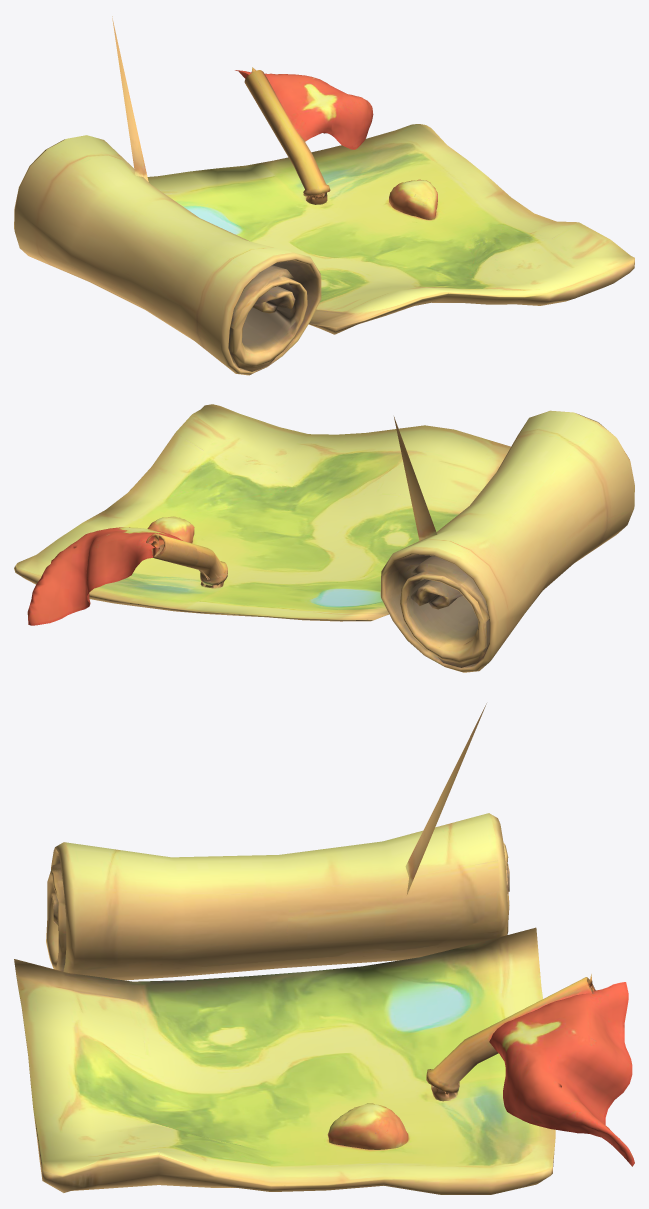
The model's file is selected.fbx.
3 renders of one model, top to bottom at view 1: azimuth 30°, elevation 25°; view 2: azimuth 150°, elevation 25°; view 3: azimuth 270°, elevation 25°, orthographic. The views are drawn at different scales.
Visible parts, largest first — view 1: tripo_node_72765adb-76cf-4624-bcd2-2ad6a2bdae88; view 2: tripo_node_72765adb-76cf-4624-bcd2-2ad6a2bdae88; view 3: tripo_node_72765adb-76cf-4624-bcd2-2ad6a2bdae88.
Boxes of the visible parts, x1=… form: tripo_node_72765adb-76cf-4624-bcd2-2ad6a2bdae88: x1=14, y1=16, x2=634, y2=375; tripo_node_72765adb-76cf-4624-bcd2-2ad6a2bdae88: x1=14, y1=404, x2=634, y2=672; tripo_node_72765adb-76cf-4624-bcd2-2ad6a2bdae88: x1=14, y1=703, x2=634, y2=1194.
Bounding box in the file's own units: 0.998 × 0.498 × 0.9473.
1 material, 1 textured.
